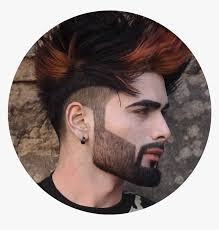b.y: (125, 140, 164, 187)
